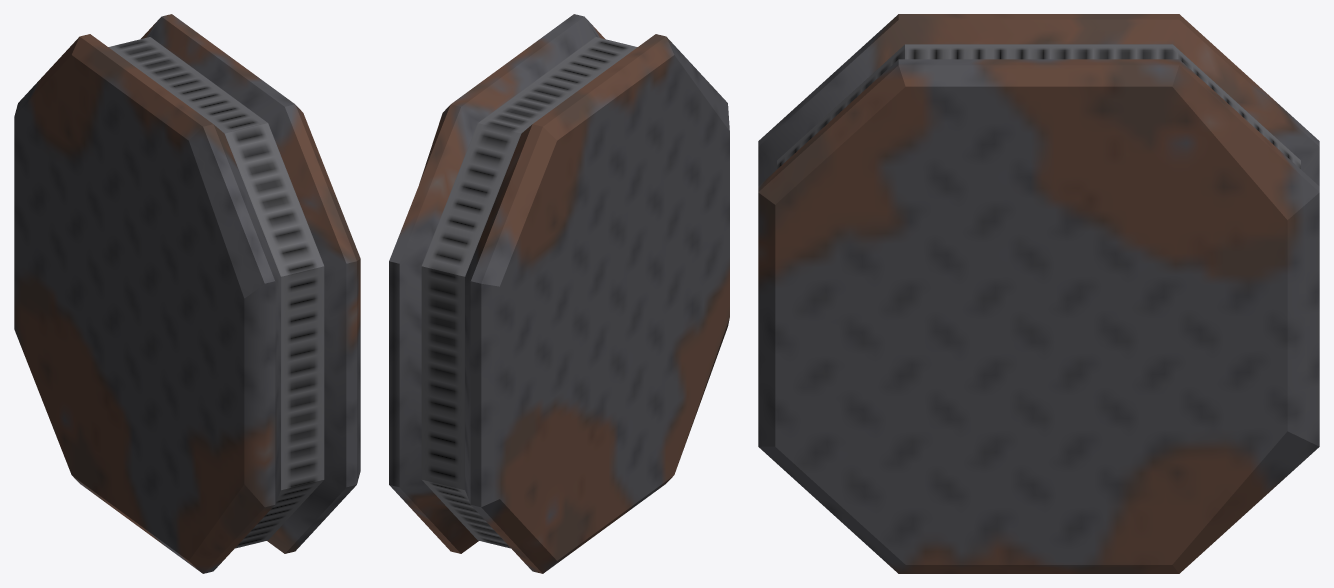
The model's file is SM_Prop_Pipe_Attatchment_Square_Base_01.fbx.
The picture shows the model from 3 angles, left to right: view 1: azimuth 30°, elevation 25°; view 2: azimuth 150°, elevation 25°; view 3: azimuth 270°, elevation 25°; orthographic projection. The views are drawn at different scales.
Parts seen in each view (by area): view 1: SM_Prop_Pipe_Attatchment_Square_Base_01; view 2: SM_Prop_Pipe_Attatchment_Square_Base_01; view 3: SM_Prop_Pipe_Attatchment_Square_Base_01.
Part boxes in pixels (x1,y1,x2,y2): SM_Prop_Pipe_Attatchment_Square_Base_01: (14, 14, 360, 573); SM_Prop_Pipe_Attatchment_Square_Base_01: (389, 14, 729, 573); SM_Prop_Pipe_Attatchment_Square_Base_01: (758, 14, 1319, 573).
Bounding box in the file's own units: 37.27 × 139 × 139.
